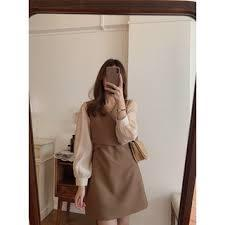dress: (71, 92, 145, 222)
